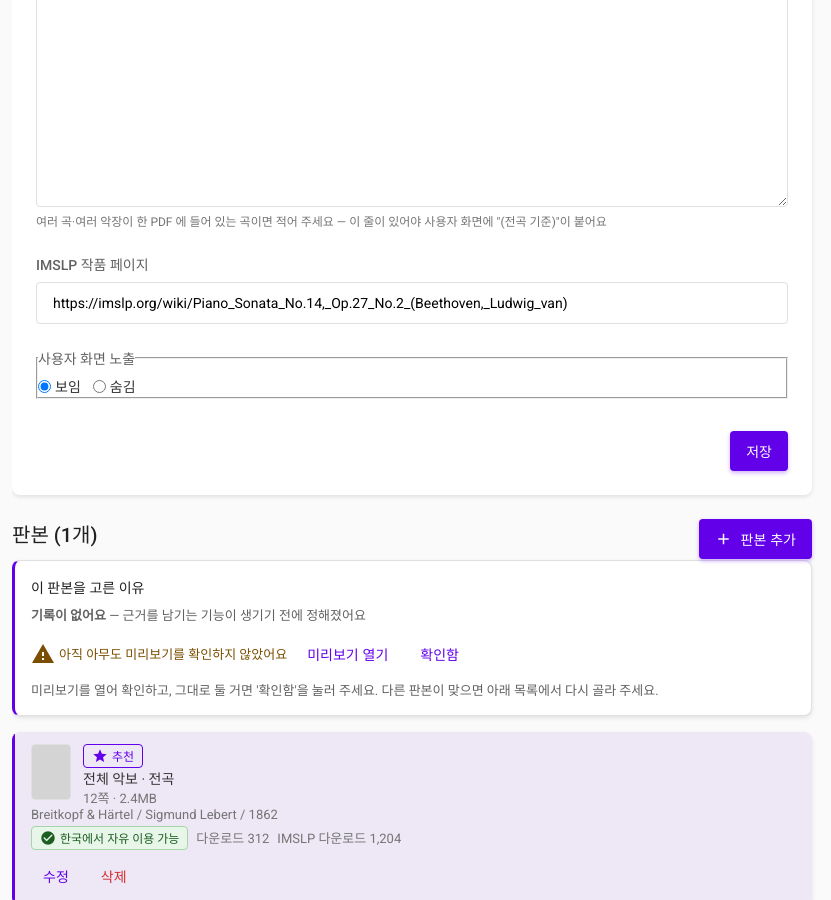
WorkFormPage — 검증·저장 › 수정 저장 → PUT 본문(WorkSaveDTO), 같은 화면에 머물고 '저장했어요'
(page scrolled)
Click the button "저장" at (759,450), box [730,430,788,470]
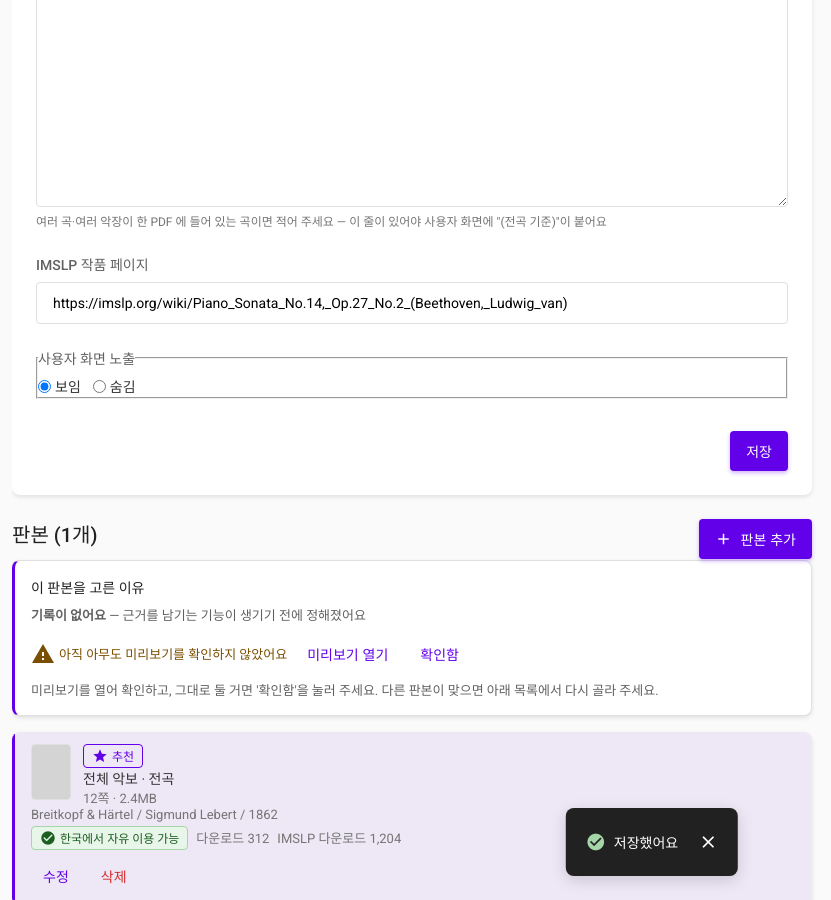
Check: the text "저장했어요" is shown, box [614,832,678,852]
